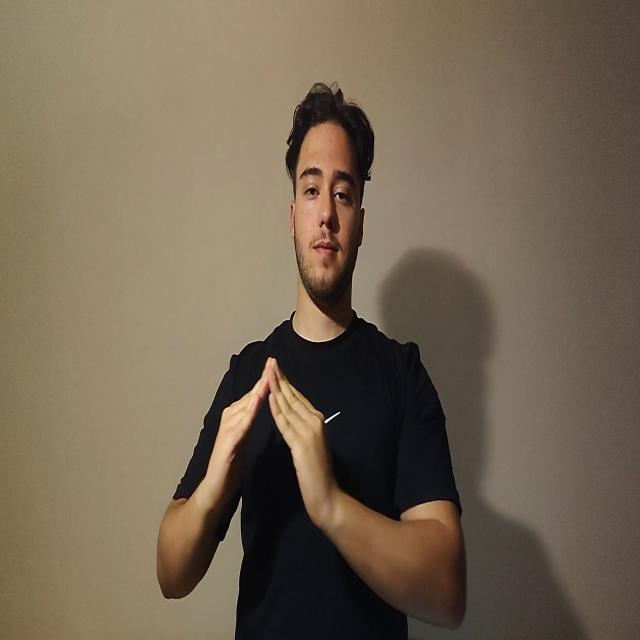house: (204, 359, 338, 532)
